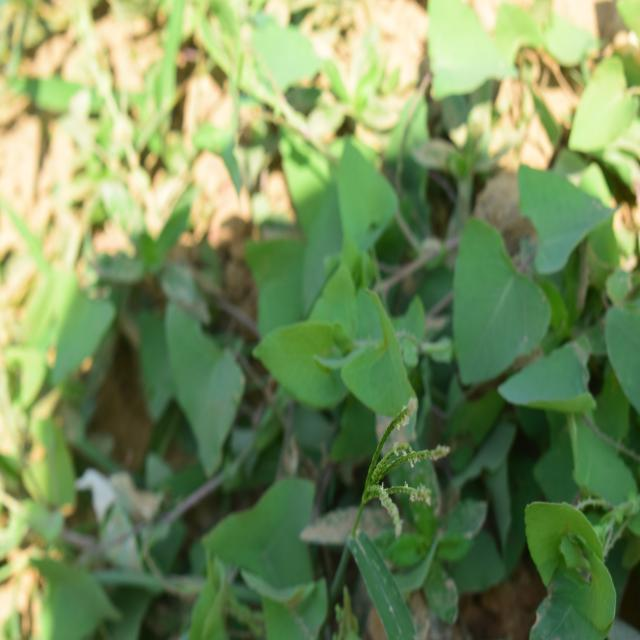Asiatic_Smartweed: (455, 140, 635, 461), (260, 258, 433, 418), (521, 473, 632, 633)
